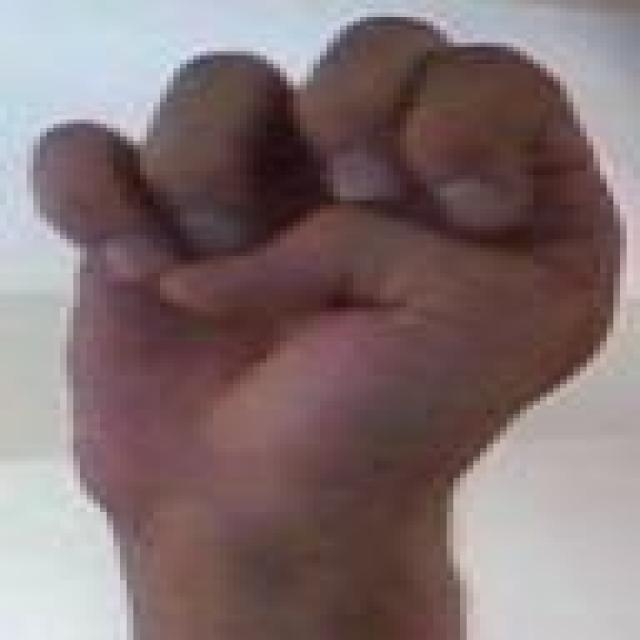E: (26, 21, 640, 510)
